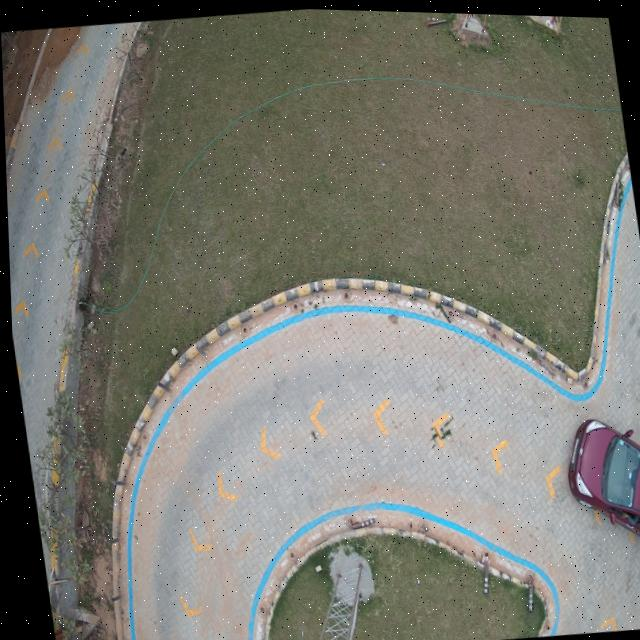car: (561, 416, 640, 537)
